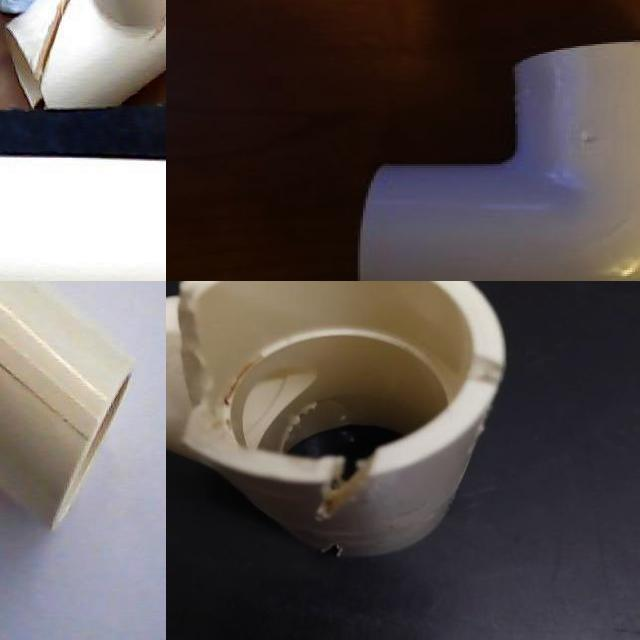Defective: (31, 0, 103, 94), (176, 290, 219, 407), (313, 451, 376, 519), (136, 0, 166, 54), (319, 539, 356, 568)
L Joint: (355, 42, 640, 281)
T Joint: (0, 154, 166, 281)
